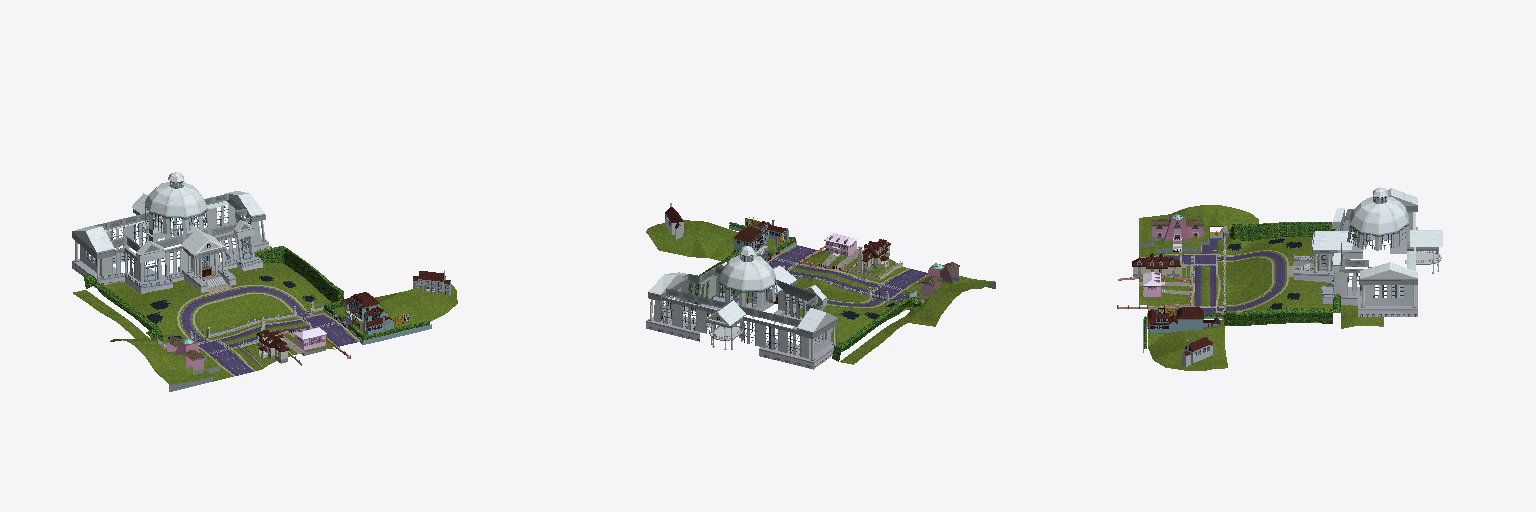
3 views of the same model, side by side, from view 1: azimuth 30°, elevation 25°; view 2: azimuth 150°, elevation 25°; view 3: azimuth 270°, elevation 25° (orthographic).
Parts seen in each view (by area): view 1: z4_trackShape_004, stonecutters_bilboard8Shape_050, stonecutters_bilboard8Shape_010, stonecutters_bilboard8Shape_011, stonecutters_bilboard8Shape_056, stonecutters_bilboard8Shape_008, stonecutters_bilboard8Shape_001, z4_trackShape_006, stonecutters_bilboard8Shape_009, z4_trackShape_002, stonecutters_bilboard8Shape_020, z4_trackShape_009 (+4 smaller); view 2: stonecutters_bilboard8Shape_050, z4_trackShape_004, stonecutters_bilboard8Shape_010, stonecutters_bilboard8Shape_011, stonecutters_bilboard8Shape_001, stonecutters_bilboard8Shape_008, stonecutters_bilboard8Shape_009, stonecutters_bilboard8Shape_056, z4_trackShape_006, stonecutters_bilboard8Shape_020; view 3: z4_trackShape_004, stonecutters_bilboard8Shape_050, stonecutters_bilboard8Shape_010, stonecutters_bilboard8Shape_056, stonecutters_bilboard8Shape_008, stonecutters_bilboard8Shape_001, stonecutters_bilboard8Shape_011, stonecutters_bilboard8Shape_020, z4_trackShape_002, z4_trackShape_009, stonecutters_bilboard8Shape_009, z4_trackShape_006.
Boxes of the visible parts, x1=… form: z4_trackShape_004: x1=97, y1=263, x2=358, y2=381; stonecutters_bilboard8Shape_050: x1=73, y1=246, x2=457, y2=384; stonecutters_bilboard8Shape_010: x1=75, y1=172, x2=312, y2=337; stonecutters_bilboard8Shape_011: x1=72, y1=193, x2=266, y2=279; stonecutters_bilboard8Shape_056: x1=84, y1=246, x2=429, y2=341; stonecutters_bilboard8Shape_008: x1=72, y1=222, x2=313, y2=348; stonecutters_bilboard8Shape_001: x1=72, y1=194, x2=450, y2=324; z4_trackShape_006: x1=210, y1=320, x2=356, y2=375; stonecutters_bilboard8Shape_009: x1=110, y1=181, x2=229, y2=249; z4_trackShape_002: x1=181, y1=287, x2=347, y2=352; stonecutters_bilboard8Shape_020: x1=256, y1=271, x2=450, y2=351; z4_trackShape_009: x1=177, y1=283, x2=359, y2=375; stonecutters_bilboard8Shape_050: x1=646, y1=220, x2=994, y2=364; z4_trackShape_004: x1=703, y1=245, x2=922, y2=343; stonecutters_bilboard8Shape_010: x1=648, y1=246, x2=889, y2=331; stonecutters_bilboard8Shape_011: x1=648, y1=267, x2=837, y2=360; stonecutters_bilboard8Shape_001: x1=654, y1=218, x2=836, y2=358; stonecutters_bilboard8Shape_008: x1=646, y1=267, x2=916, y2=369; stonecutters_bilboard8Shape_009: x1=660, y1=254, x2=801, y2=356; stonecutters_bilboard8Shape_056: x1=688, y1=222, x2=920, y2=361; z4_trackShape_006: x1=778, y1=246, x2=927, y2=292; stonecutters_bilboard8Shape_020: x1=665, y1=207, x2=890, y2=261; z4_trackShape_004: x1=1139, y1=231, x2=1368, y2=325; stonecutters_bilboard8Shape_050: x1=1139, y1=205, x2=1383, y2=370; stonecutters_bilboard8Shape_010: x1=1223, y1=187, x2=1442, y2=310; stonecutters_bilboard8Shape_056: x1=1144, y1=222, x2=1356, y2=348; stonecutters_bilboard8Shape_008: x1=1223, y1=227, x2=1441, y2=316; stonecutters_bilboard8Shape_001: x1=1182, y1=195, x2=1428, y2=366; stonecutters_bilboard8Shape_011: x1=1312, y1=205, x2=1441, y2=307; stonecutters_bilboard8Shape_020: x1=1132, y1=253, x2=1219, y2=355; z4_trackShape_002: x1=1195, y1=240, x2=1284, y2=313; z4_trackShape_009: x1=1140, y1=250, x2=1300, y2=312; stonecutters_bilboard8Shape_009: x1=1347, y1=196, x2=1408, y2=250; z4_trackShape_006: x1=1154, y1=255, x2=1215, y2=314.
Bounding box in the file's own units: 340 × 112 × 304.
67 materials, 65 textured.